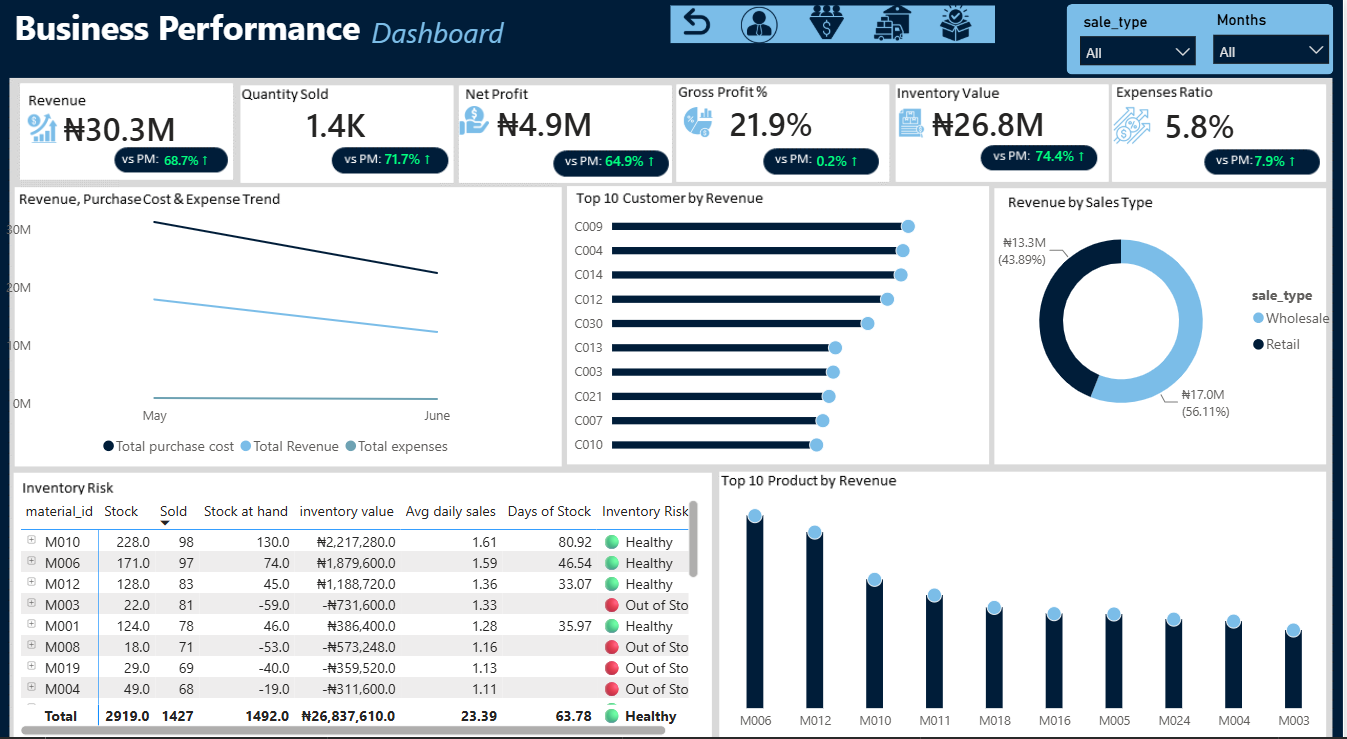

The page's visual inventory and layout, read from the dashboard file:
{"tool":"powerbi","page":{"name":"Executive_dashboard (MOM)","canvas":[1280,720],"ordinal":1},"visuals":[{"type":"lineChart","fields":{"Y":["Measure.Total purchase cost","Measure.Total Revenue","Measure.Total expenses"],"Category":["Date.Date.Variation.Date Hierarchy.Month"]},"box":[0,177.9,528.6,266.8],"z":0},{"type":"donutChart","fields":{"Category":["sales_update.sale_type"],"Y":["Measure.Total Revenue"]},"box":[936.7,170,343.3,275],"z":1000},{"type":"barChart","fields":{"Category":["customers.customer_id"],"Y":["Measure.Total Revenue"]},"box":[538.4,191.9,395.3,252.1],"z":2000},{"type":"columnChart","fields":{"Category":["materials_corrected.material_id"],"Y":["Measure.Total Revenue"]},"box":[683.1,457.1,585.6,248.9],"z":3000},{"type":"cardVisual","fields":{"Data":["Measure.Total Revenue"]},"box":[30.9,87.8,187.1,71.6],"z":4000},{"type":"cardVisual","fields":{"Data":["Measure.Net Profit"]},"box":[444,76.4,165.9,81.3],"z":5000},{"type":"cardVisual","fields":{"Data":["Measure.Gross profit margin"]},"box":[665.3,76.4,170.8,81.3],"z":6000},{"type":"cardVisual","fields":{"Data":["Measure.Inventory Value 2"]},"box":[858.8,76.4,190.3,83],"z":7000},{"type":"cardVisual","fields":{"Data":["Measure.Expenses ratio"]},"box":[1080,81.3,148,76.4],"z":8000},{"type":"image","box":[26.3,110.4,29.8,28],"z":9000},{"type":"image","box":[426.2,102.5,52,27.7],"z":10000},{"type":"image","box":[649,102.5,32.5,30.9],"z":11000},{"type":"image","box":[850.7,104.1,35.8,30.9],"z":12000},{"type":"image","box":[1060.5,102.5,35.8,37.4],"z":13000},{"type":"cardVisual","fields":{"Data":["Measure.Profit growth arrow month"]},"box":[546.5,118.7,120.4,69.9],"z":14000},{"type":"cardVisual","fields":{"Data":["Measure.Gross profit growth arrow month"]},"box":[748.3,125,110,55],"z":15000},{"type":"cardVisual","fields":{"Data":["Measure.Inventory growth arrow MOM"]},"box":[956.7,113.3,120,71.7],"z":16000},{"type":"cardVisual","fields":{"Data":["Measure.Expense ratio growth arrow MOM"]},"box":[1166.1,125.2,113.9,55.3],"z":17000},{"type":"cardVisual","fields":{"Data":["Measure.Revenue growth arrow month"]},"box":[126.9,128.5,148,48.8],"z":18000},{"type":"pivotTable","fields":{"Rows":["materials_corrected.material_id","materials_corrected.size","materials_corrected.manufacturer"],"Values":["Measure.Inventory purchased","Measure.inventory sold","Measure.Stock at hand","Measure.inventory value","Measure.Avg daily sales","Measure.Days of Stock","Measure.Inventory Risk"]},"box":[14.6,473.3,655.5,234.2],"z":19000},{"type":"textbox","box":[8.1,0,422.9,76.4],"z":20000},{"type":"textbox","box":[348.3,8.3,165.9,68.3],"z":21000},{"type":"shape","box":[1015.7,5.7,254.3,67.1],"z":22000},{"type":"slicer","fields":{"Values":["sales_update.sale_type"]},"box":[1018.2,8.1,130.1,66.7],"z":23000},{"type":"shape","box":[639.2,6.5,309,35.8],"z":24000},{"type":"image","box":[686.4,6.5,74.8,37.4],"z":25000},{"type":"image","box":[749.8,4.9,74.8,37.4],"z":26000},{"type":"image","box":[813.3,4.9,74.8,37.4],"z":27000},{"type":"image","box":[873.5,4.9,74.8,37.4],"z":28000},{"type":"image","box":[621.3,4.9,84.6,35.8],"z":29000},{"type":"slicer","fields":{"Values":["Date.Month Number"]},"box":[1145.1,6.5,130.1,66.7],"z":30000},{"type":"cardVisual","fields":{"Data":["Measure.Quantity sold"]},"box":[263.5,78.1,165.9,81.3],"z":31000},{"type":"cardVisual","fields":{"Data":["Measure.Quantity sold growth arrow month"]},"box":[336.6,116,118.9,70.2],"z":32000}]}

Visuals, with their boxes in screenshot pixels (x1, y1, x2, y2), scaled from the page's 1280x720 canvas onto the 1347x739 screenshot:
lineChart - Measure.Total purchase cost x Measure.Total Revenue: (x1=0, y1=183, x2=556, y2=456)
donutChart - sales_update.sale_type x Measure.Total Revenue: (x1=986, y1=174, x2=1346, y2=457)
barChart - customers.customer_id x Measure.Total Revenue: (x1=567, y1=197, x2=983, y2=456)
columnChart - materials_corrected.material_id x Measure.Total Revenue: (x1=719, y1=469, x2=1335, y2=725)
cardVisual - Measure.Total Revenue: (x1=33, y1=90, x2=229, y2=164)
cardVisual - Measure.Net Profit: (x1=467, y1=78, x2=642, y2=162)
cardVisual - Measure.Gross profit margin: (x1=700, y1=78, x2=880, y2=162)
cardVisual - Measure.Inventory Value 2: (x1=904, y1=78, x2=1104, y2=164)
cardVisual - Measure.Expenses ratio: (x1=1137, y1=83, x2=1292, y2=162)
image: (x1=28, y1=113, x2=59, y2=142)
image: (x1=449, y1=105, x2=503, y2=134)
image: (x1=683, y1=105, x2=717, y2=137)
image: (x1=895, y1=107, x2=933, y2=139)
image: (x1=1116, y1=105, x2=1154, y2=144)
cardVisual - Measure.Profit growth arrow month: (x1=575, y1=122, x2=702, y2=194)
cardVisual - Measure.Gross profit growth arrow month: (x1=787, y1=128, x2=903, y2=185)
cardVisual - Measure.Inventory growth arrow MOM: (x1=1007, y1=116, x2=1133, y2=190)
cardVisual - Measure.Expense ratio growth arrow MOM: (x1=1227, y1=129, x2=1346, y2=185)
cardVisual - Measure.Revenue growth arrow month: (x1=134, y1=132, x2=289, y2=182)
pivotTable - materials_corrected.material_id x materials_corrected.size: (x1=15, y1=486, x2=705, y2=726)
textbox: (x1=9, y1=0, x2=454, y2=78)
textbox: (x1=367, y1=9, x2=541, y2=79)
shape: (x1=1069, y1=6, x2=1336, y2=75)
slicer - sales_update.sale_type: (x1=1071, y1=8, x2=1208, y2=77)
shape: (x1=673, y1=7, x2=998, y2=43)
image: (x1=722, y1=7, x2=801, y2=45)
image: (x1=789, y1=5, x2=868, y2=43)
image: (x1=856, y1=5, x2=935, y2=43)
image: (x1=919, y1=5, x2=998, y2=43)
image: (x1=654, y1=5, x2=743, y2=42)
slicer - Date.Month Number: (x1=1205, y1=7, x2=1342, y2=75)
cardVisual - Measure.Quantity sold: (x1=277, y1=80, x2=452, y2=164)
cardVisual - Measure.Quantity sold growth arrow month: (x1=354, y1=119, x2=479, y2=191)
